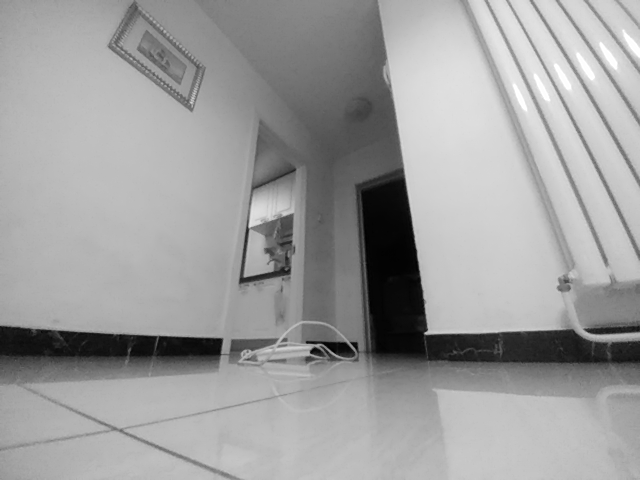power strip: (238, 341, 312, 367)
wire: (310, 327, 358, 365)
